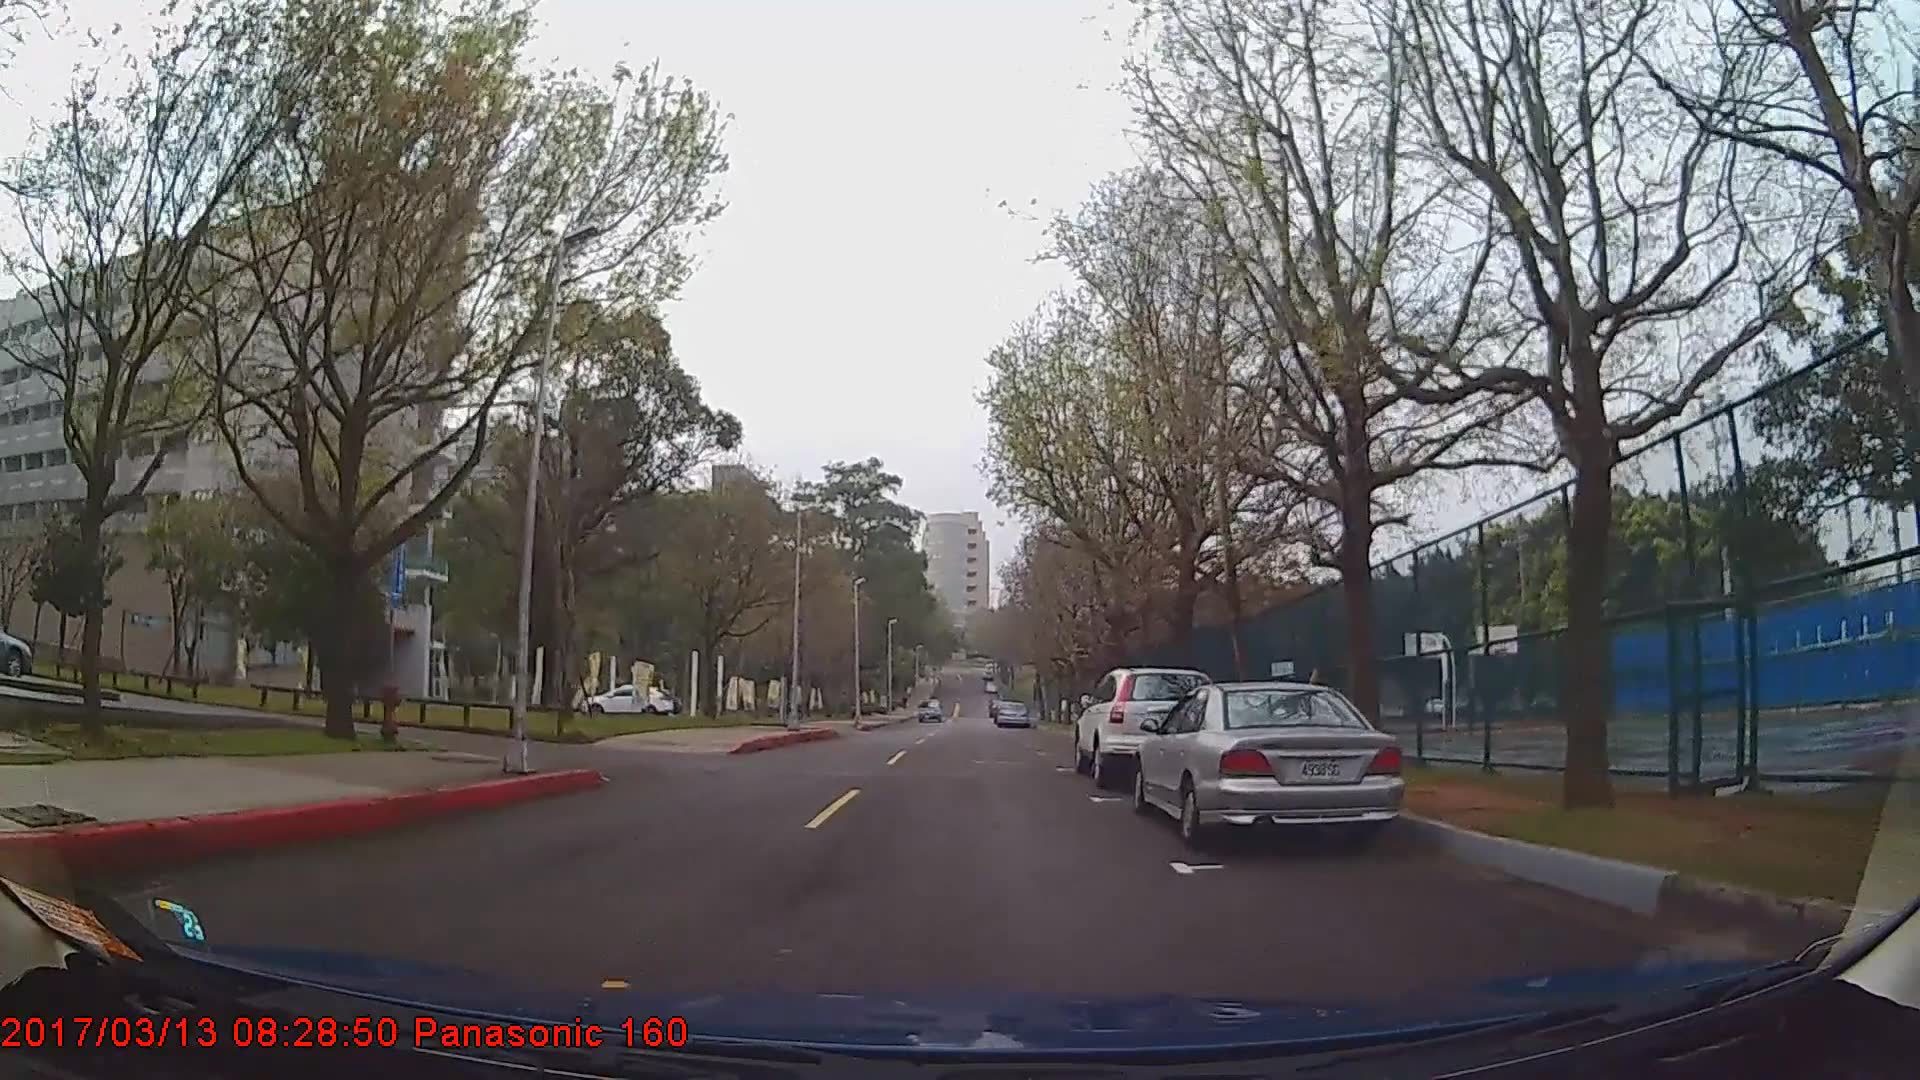vehicle: (1133, 680, 1400, 849), (1073, 667, 1217, 786), (579, 683, 675, 717), (0, 628, 34, 680), (993, 700, 1029, 728)
